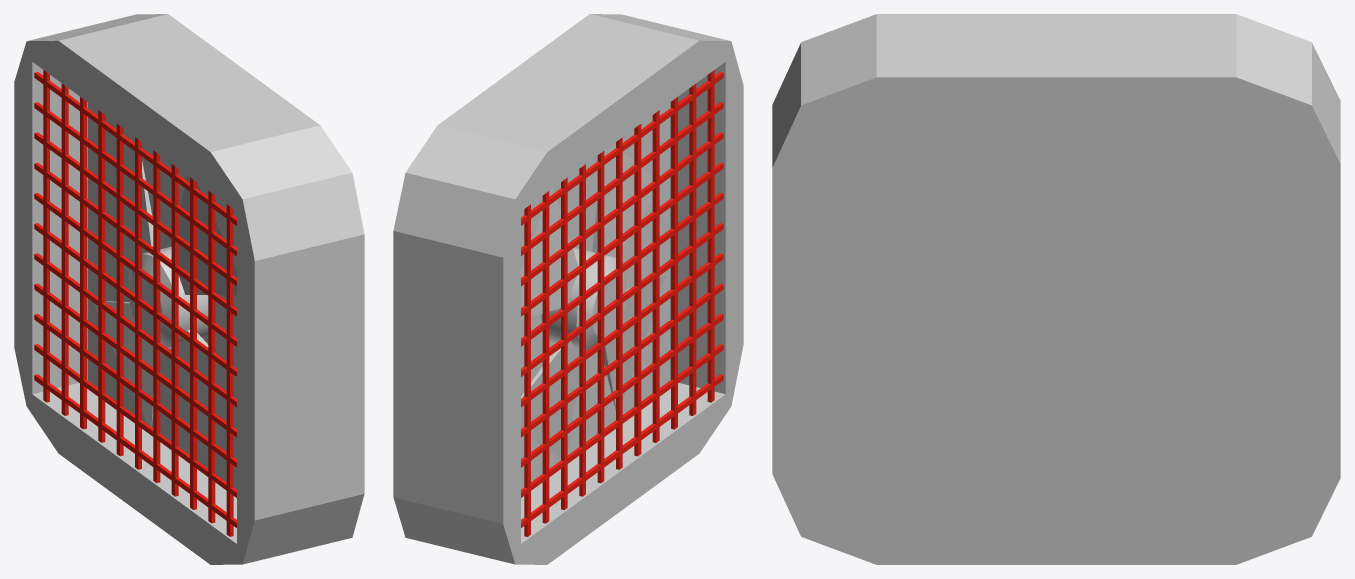
The model's file is 환풍기.fbx.
3 renders of one model, left to right at view 1: azimuth 30°, elevation 25°; view 2: azimuth 150°, elevation 25°; view 3: azimuth 270°, elevation 25°, orthographic. The views are drawn at different scales.
Parts seen in each view (by area): view 1: Box1183, Box1182, Cylinder496; view 2: Box1183, Box1182, Cylinder496; view 3: Box1183.
Boxes of the visible parts, box(x1,y1,x2,y2) form: Box1183: box(14, 14, 364, 564); Box1182: box(34, 70, 236, 536); Cylinder496: box(91, 138, 236, 460); Box1183: box(393, 14, 743, 564); Box1182: box(521, 70, 723, 536); Cylinder496: box(521, 145, 665, 457); Box1183: box(772, 14, 1340, 564).
Bounding box in the file's own units: 17.6 × 63.25 × 66.77.
